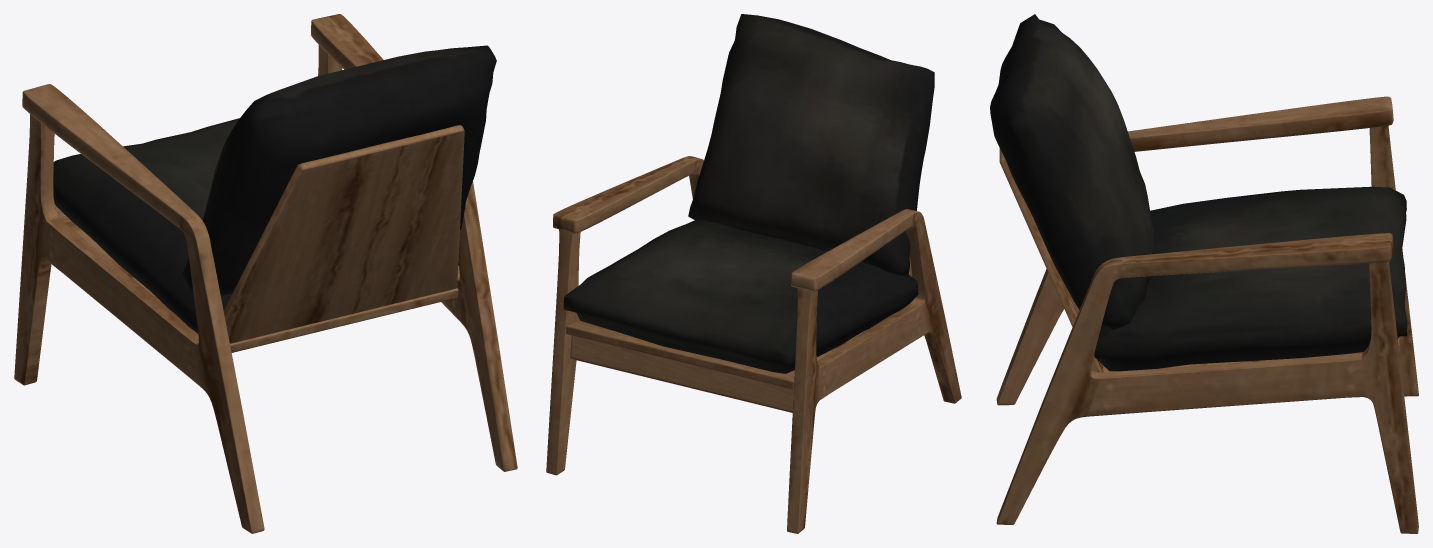
Rendered from armchair.glb.
3 views of the same model, side by side, from view 1: azimuth 30°, elevation 25°; view 2: azimuth 150°, elevation 25°; view 3: azimuth 270°, elevation 25° (orthographic). The views are drawn at different scales.
Visible parts, largest first — view 1: modern_arm_chair_01; view 2: modern_arm_chair_01; view 3: modern_arm_chair_01.
Boxes of the visible parts, x1,y1,x2,y2 form: modern_arm_chair_01: (14,14,517,533); modern_arm_chair_01: (546,14,961,533); modern_arm_chair_01: (990,14,1418,533).
Size of the model in its own units: 0.8203 by 1.02 by 0.9865.
Materials: 2 (2 with a texture image).
